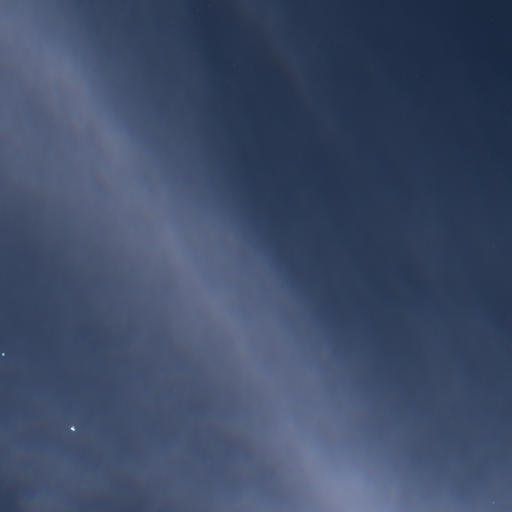Iceberg: (71, 426, 75, 430), (2, 352, 4, 355), (492, 501, 494, 503)
